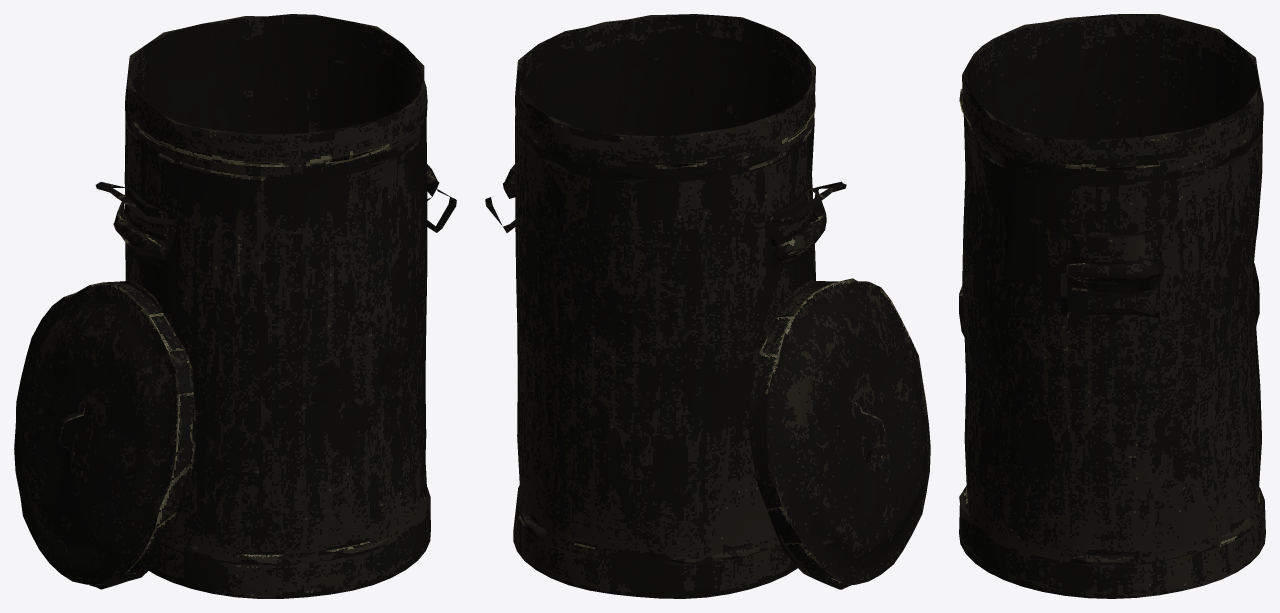
The model's file is metal_trash_can_rust.glb.
3 views of the same model, side by side, from view 1: azimuth 30°, elevation 25°; view 2: azimuth 150°, elevation 25°; view 3: azimuth 270°, elevation 25° (orthographic).
Parts seen in each view (by area): view 1: body; view 2: body; view 3: body.
Boxes of the visible parts, x1,y1,x2,y2 form: body: (14,14,456,598); body: (485,14,930,598); body: (959,14,1265,598).
Size of the model in its own units: 0.7709 by 0.9062 by 0.5482.
1 material, 1 textured.
